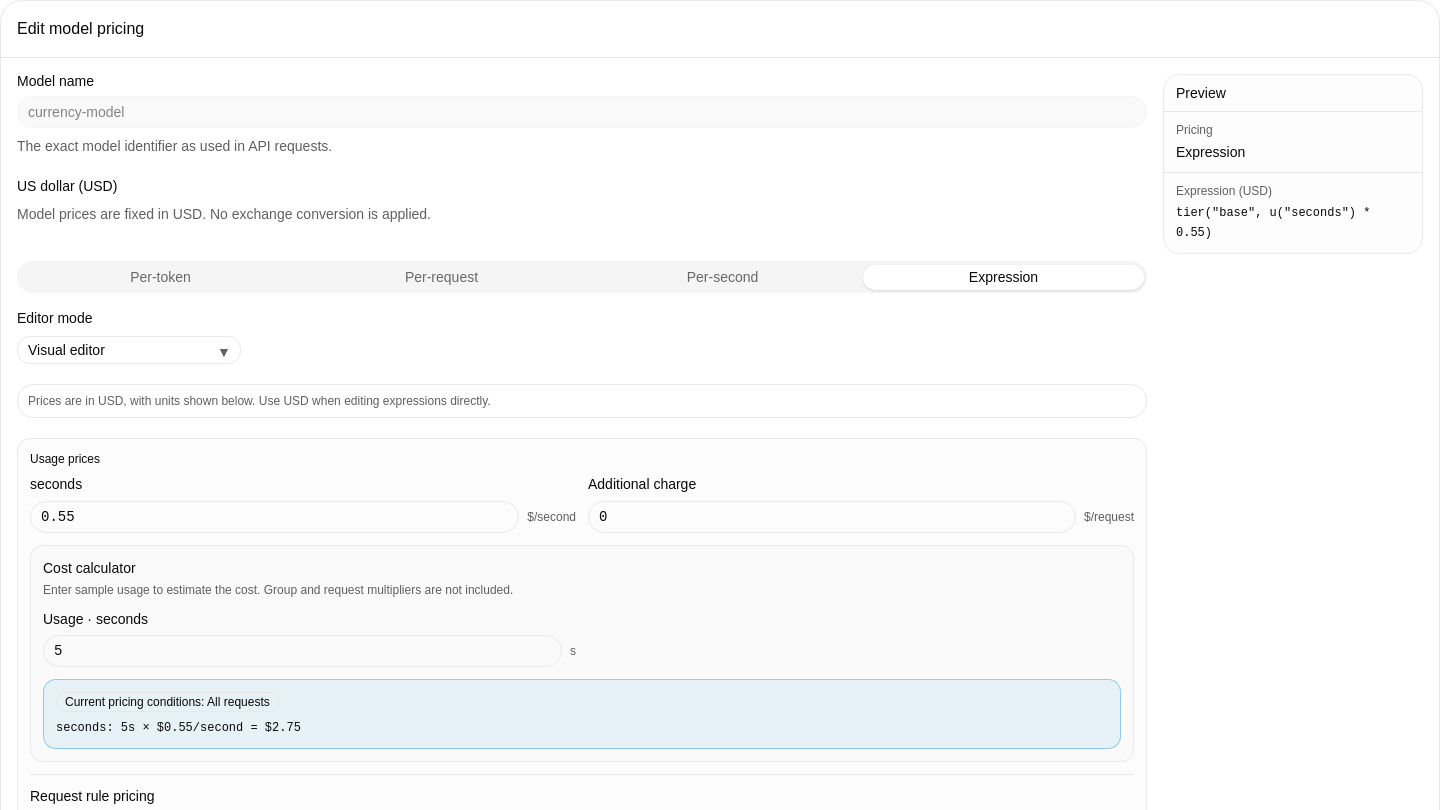
Test: shows task monetary preview in USD and accepts fractional preview quantities
This screenshot has width=1440, height=810.
Expected: the field named "seconds" holds "0.55", [30,500,519,532]
Replace the text in the field named "Additional charge" with "1" at (832, 516), box [588,500,1076,532]
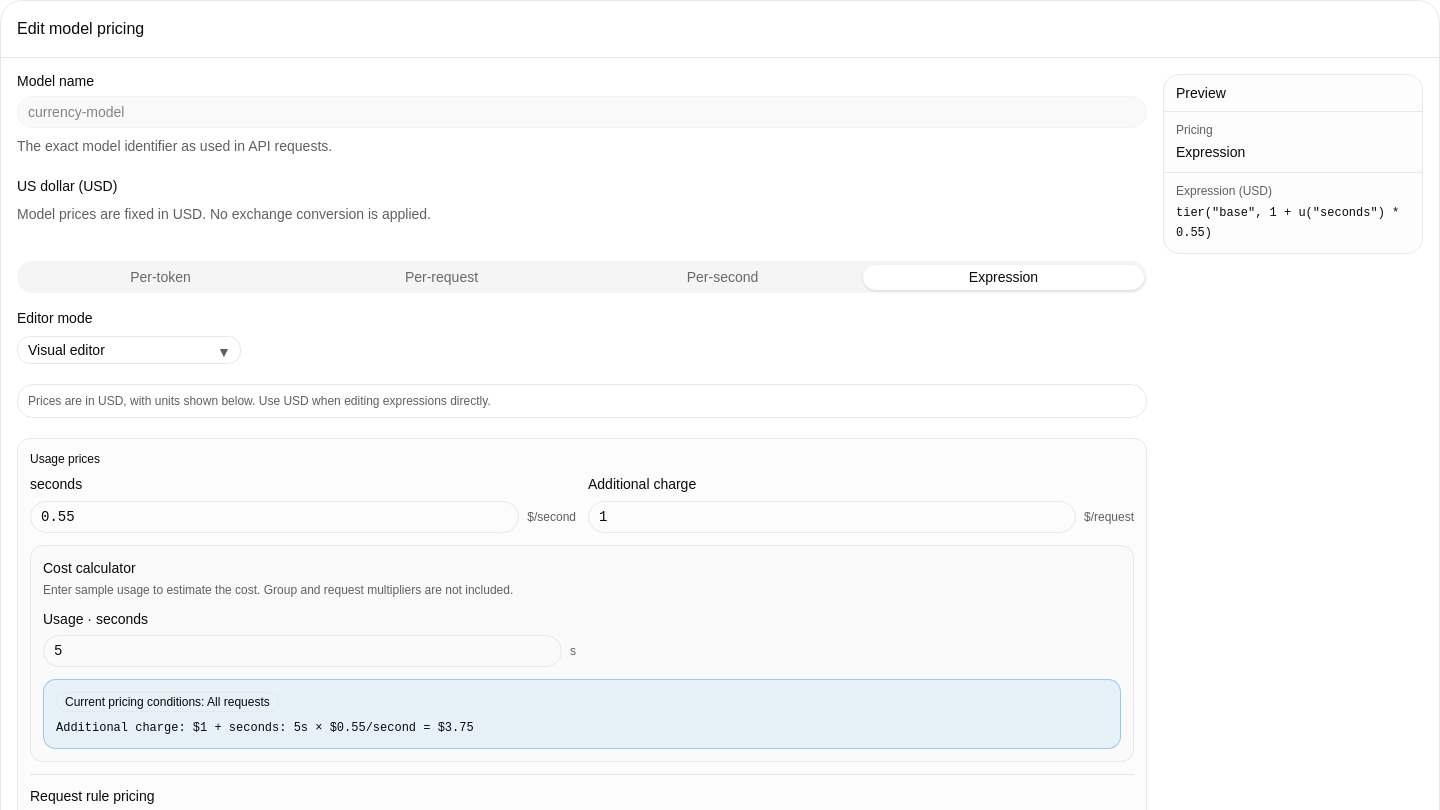
Replace the text in the number field with "0.5" at (302, 651), box [43,635,562,667]
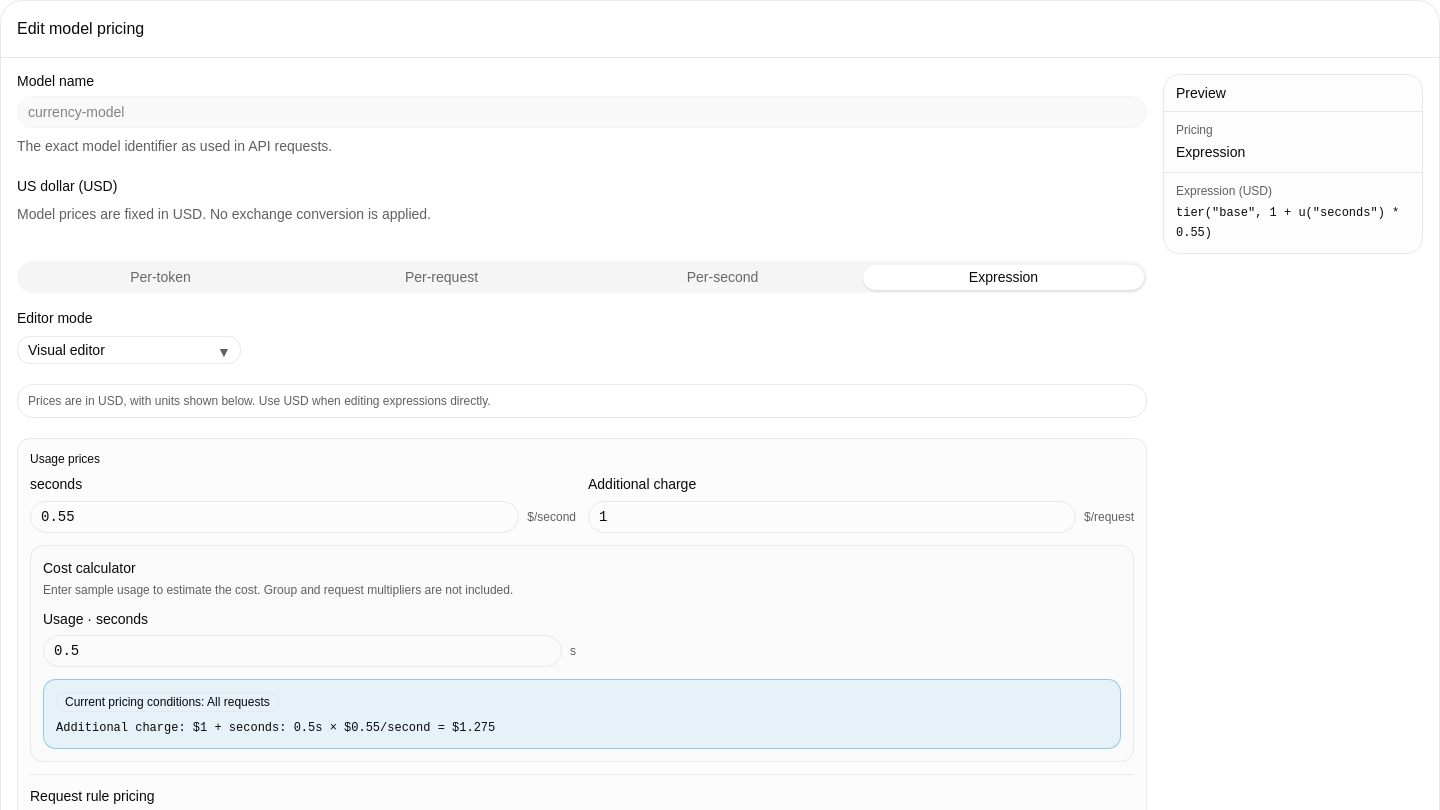
Expected: the text "= $1.275" is shown, [56,721,495,735]
